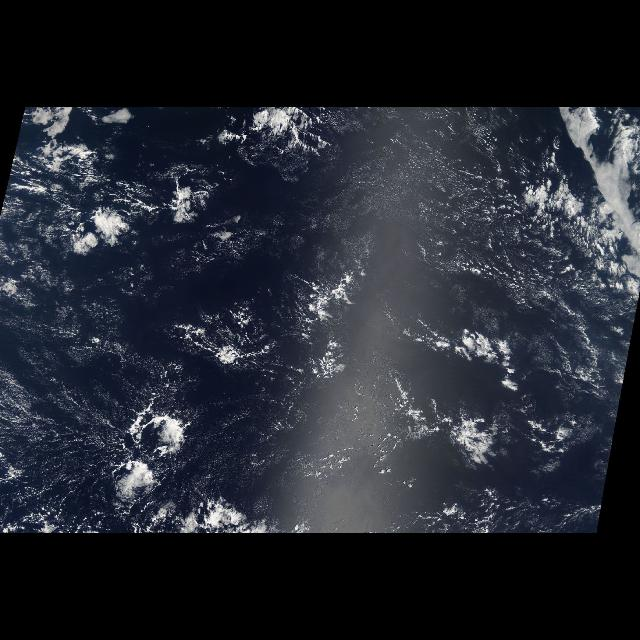Flower: (107, 317, 273, 505), (26, 138, 232, 258)
Gravel: (353, 136, 639, 347)
Sugar: (0, 243, 182, 533), (317, 111, 551, 327)
